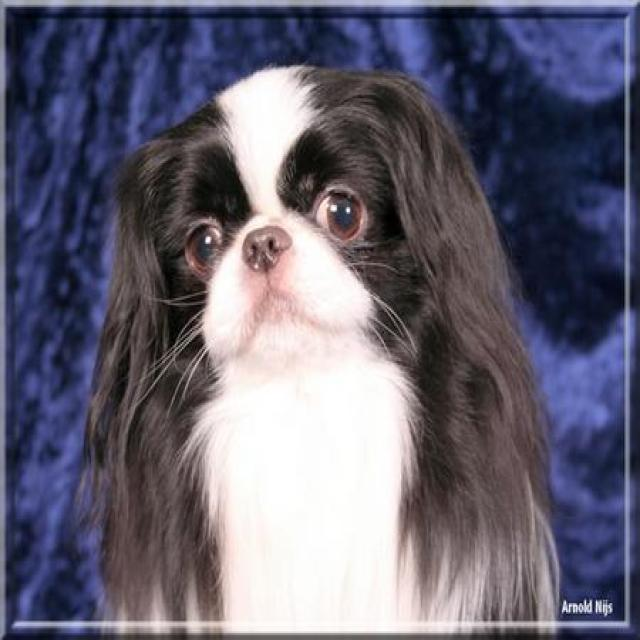husky: (81, 63, 562, 637)
